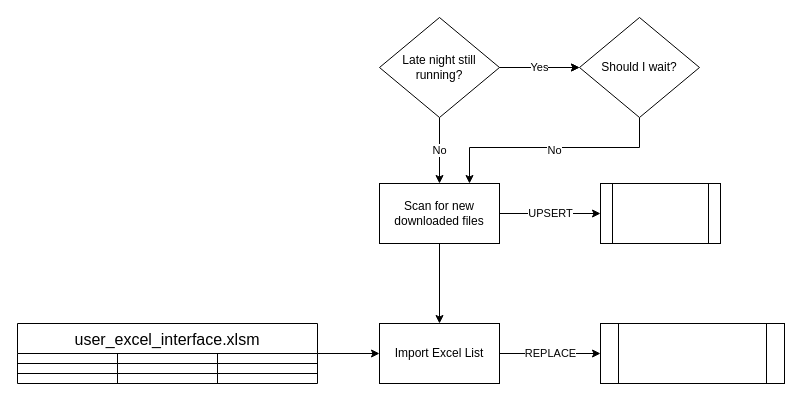
This 802x401 diagram has some shape labels left out. Each missing label, with the centre of its shape:
files: (660,213)
user_media_interface: (692,353)
